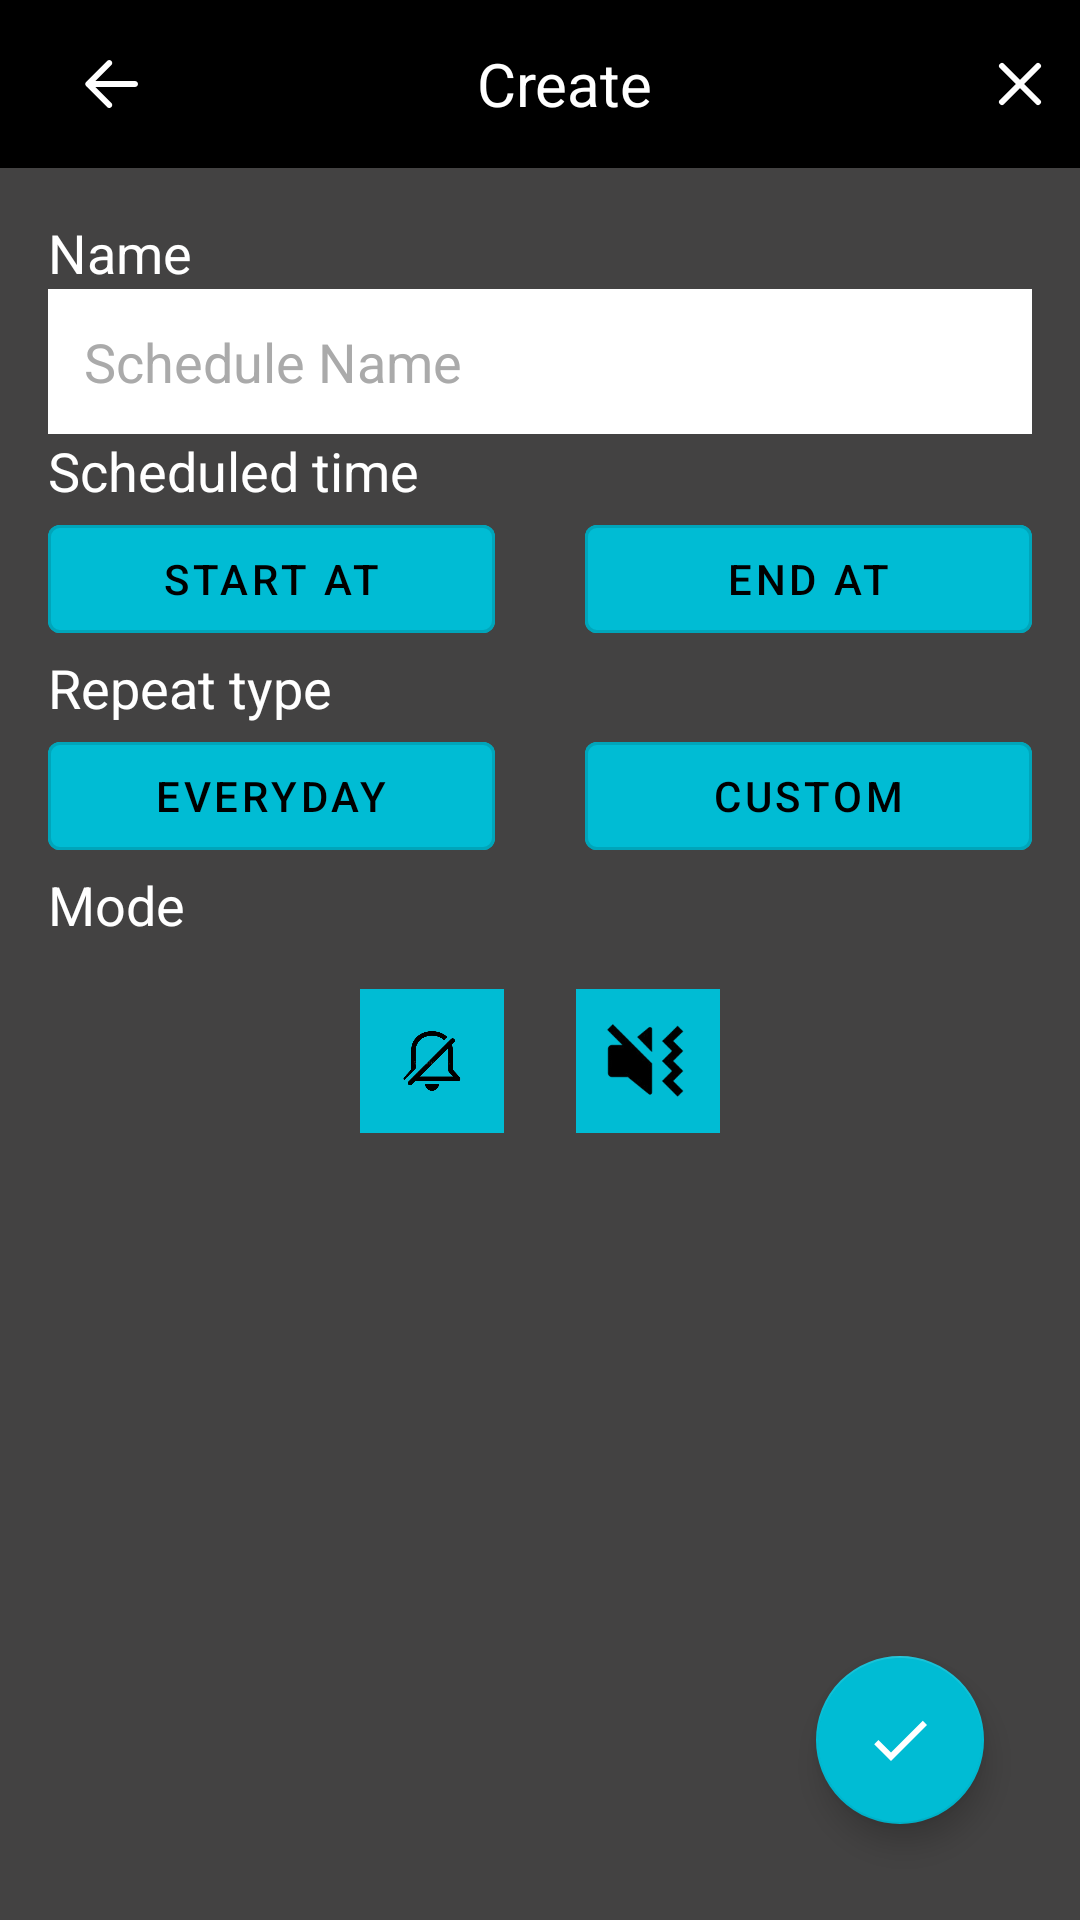

Where to tap for icons on this 1080×1920 app screen, as [x,y]:
Back: [111,84]
check: [900,1740]
Close: [1020,84]
Mute: [432,1061]
Vibrate: [648,1061]
